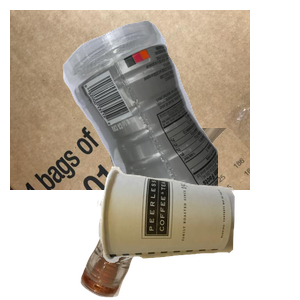cardboard: (10, 10, 250, 190)
glass: (78, 128, 298, 300)
plastic: (60, 18, 300, 198)
trash: (95, 164, 300, 300)
